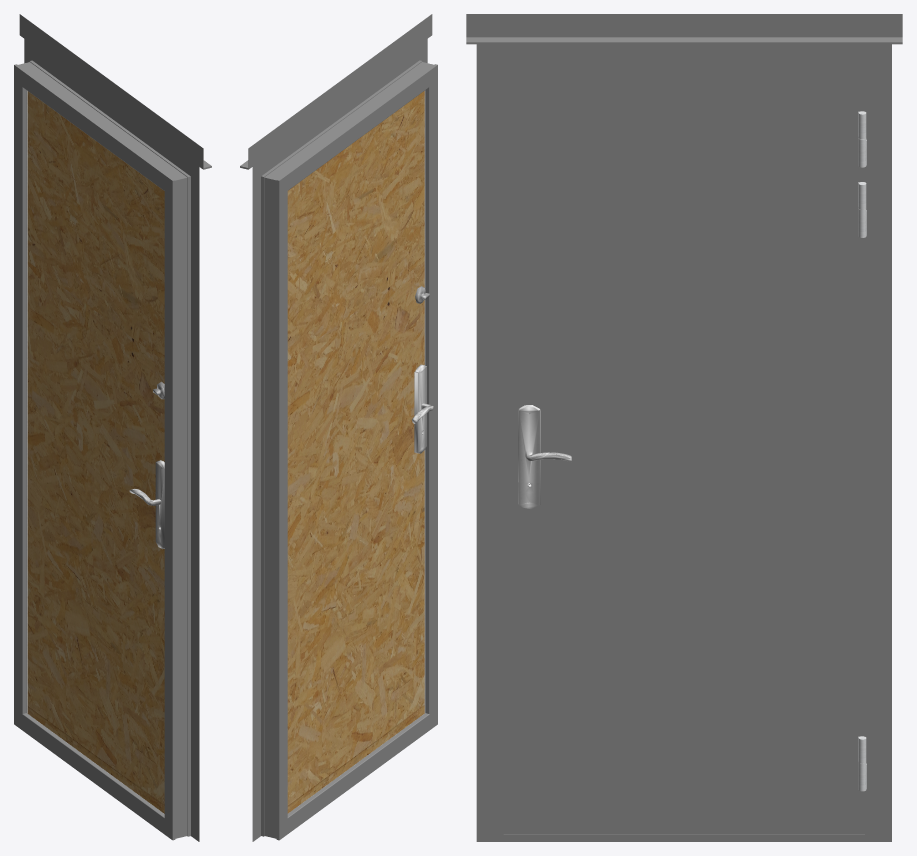
Rendered from porta.glb.
3 renders of one model, left to right at view 1: azimuth 30°, elevation 25°; view 2: azimuth 150°, elevation 25°; view 3: azimuth 270°, elevation 25°, orthographic. The views are drawn at different scales.
Parts seen in each view (by area): view 1: Porta; view 2: Porta; view 3: Porta.
Part boxes in pixels (box(x1,y1,x2,y2)): Porta: box(14, 14, 211, 841); Porta: box(240, 14, 437, 841); Porta: box(466, 14, 902, 841).
Bounding box in the file's own units: 0.1398 × 2.07 × 0.9907.
Materials: 5 (5 with a texture image).
